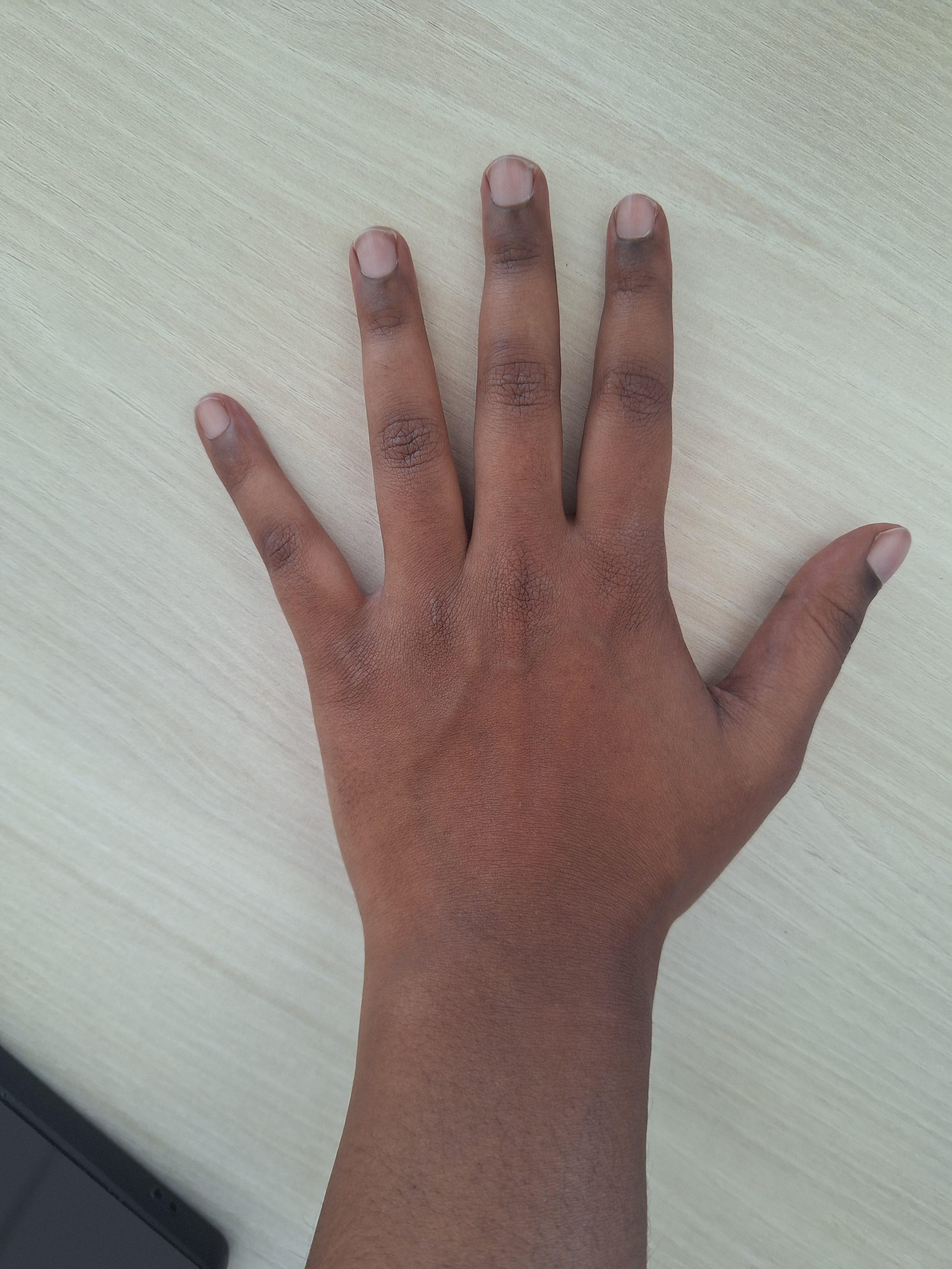Fingernail: (867, 527, 912, 586), (486, 157, 534, 206), (354, 229, 397, 278), (615, 195, 657, 239), (195, 398, 230, 439)
